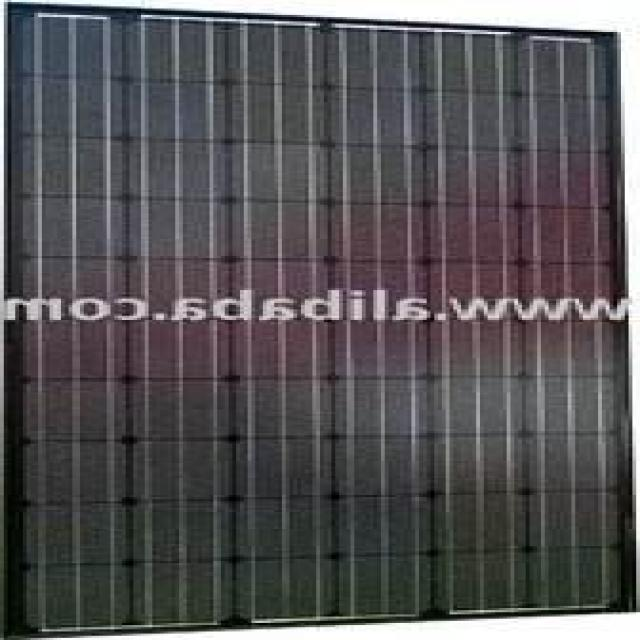no faulty: (14, 16, 614, 622)
